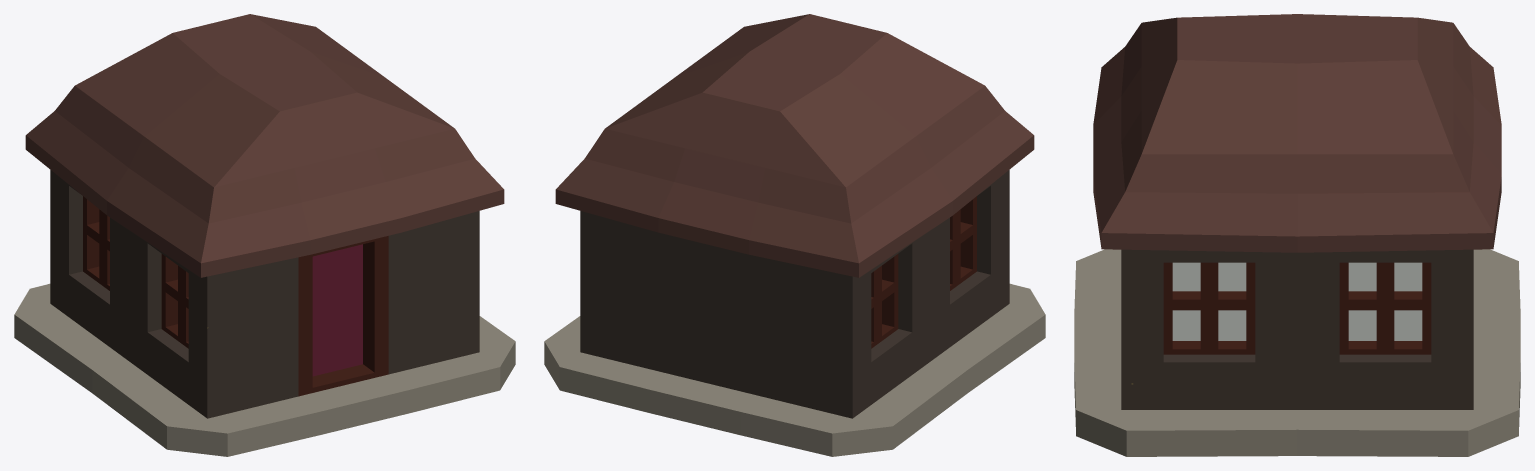
File: VillageHouse.fbx
3 views of the same model, side by side, from view 1: azimuth 30°, elevation 25°; view 2: azimuth 150°, elevation 25°; view 3: azimuth 270°, elevation 25° (orthographic). The views are drawn at different scales.
Visible parts, largest first — view 1: Cube; view 2: Cube; view 3: Cube.
Part boxes in pixels (x1=…): Cube: x1=14, y1=14, x2=515, y2=456; Cube: x1=544, y1=14, x2=1045, y2=456; Cube: x1=1074, y1=14, x2=1520, y2=456.
Bounding box in the file's own units: 1346 × 1065 × 1333.
